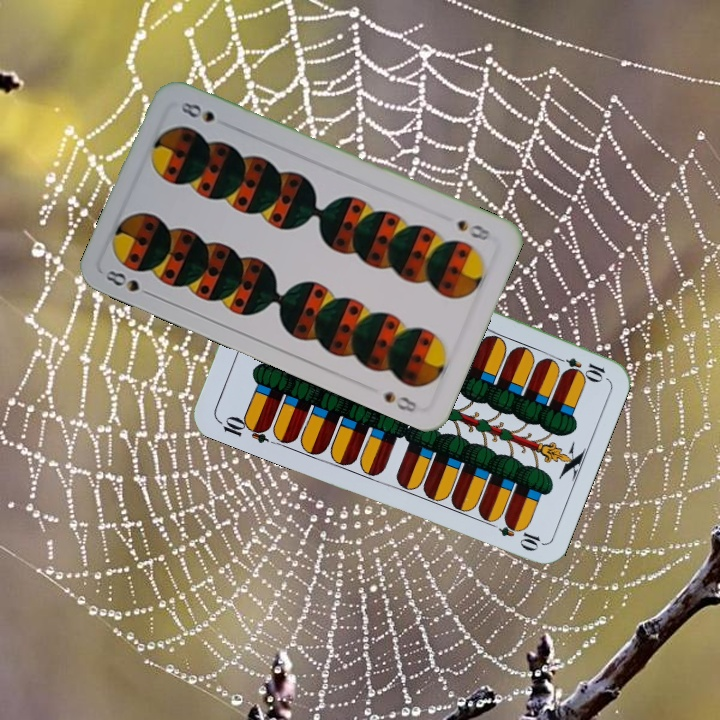E10: (214, 411, 273, 446), (549, 352, 608, 383)
S8: (101, 266, 157, 300), (453, 216, 494, 243)
